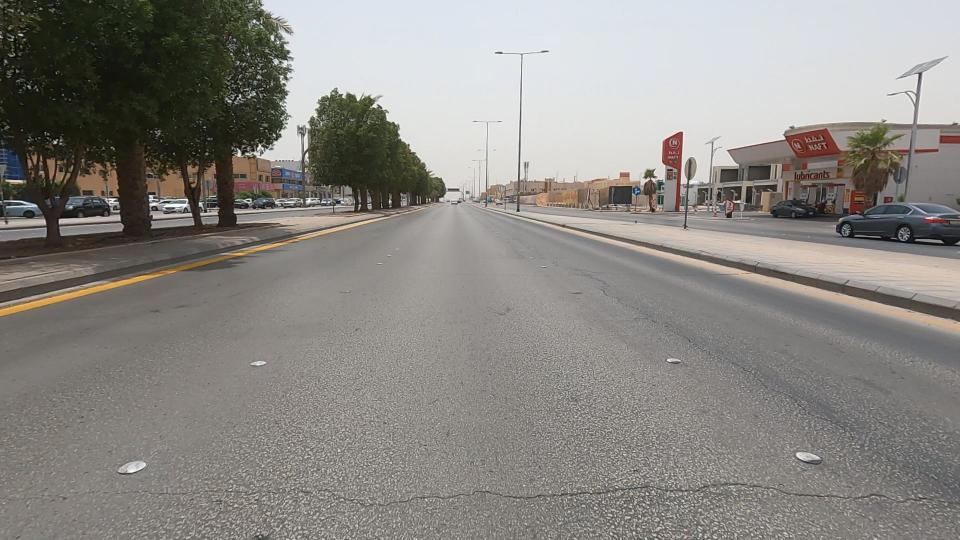BAD_BILLBOARD: (527, 172, 608, 224)
